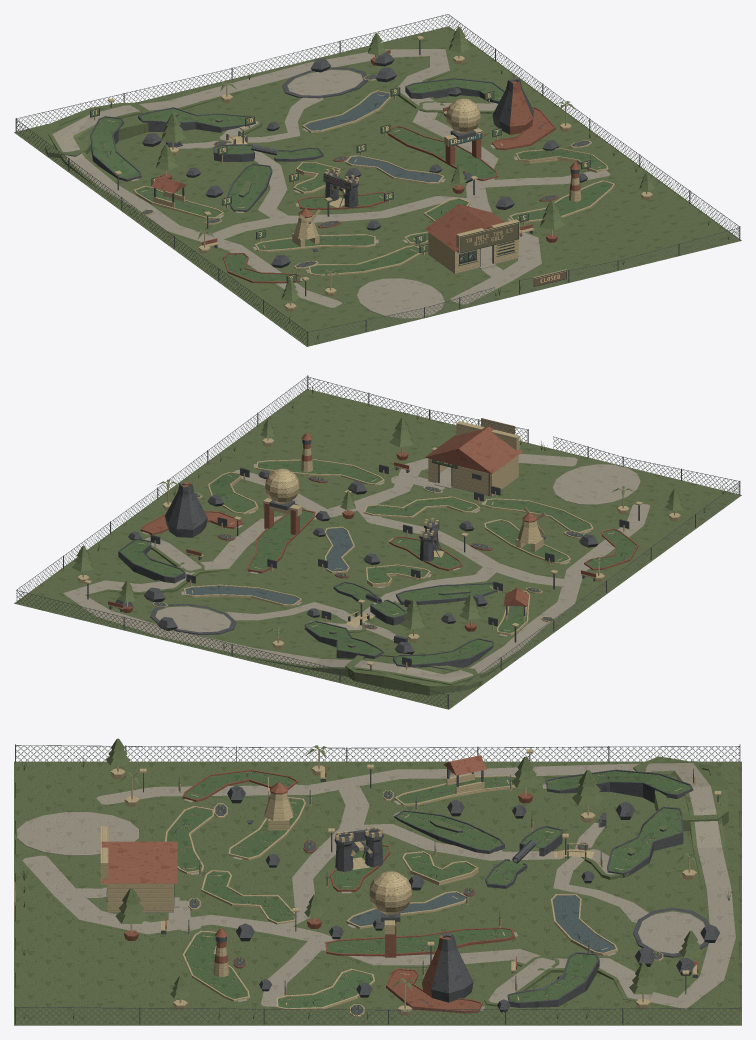
File: thimble-trails-2006-mid.glb
The picture shows the model from 3 angles, top to bottom: view 1: azimuth 30°, elevation 25°; view 2: azimuth 150°, elevation 25°; view 3: azimuth 270°, elevation 25°; orthographic projection. The views are drawn at different scales.
Parts seen in each view (by area): view 1: lot, putting_lanes, course_obstacles, ticket_hut, statue_pad, sign_name; view 2: lot, putting_lanes, ticket_hut, course_obstacles, statue_pad; view 3: lot, putting_lanes, course_obstacles, ticket_hut, statue_pad, Covered bridge roof, Gate turret.001, Gate turret.
Part boxes in pixels (<box>): lot: <box>14,14,741,346</box>; putting_lanes: <box>90,78,614,283</box>; course_obstacles: <box>292,78,581,247</box>; ticket_hut: <box>425,204,522,273</box>; statue_pad: <box>357,278,444,318</box>; sign_name: <box>460,222,518,253</box>; lot: <box>14,375,741,709</box>; putting_lanes: <box>118,459,638,669</box>; ticket_hut: <box>425,421,522,496</box>; course_obstacles: <box>165,433,543,551</box>; statue_pad: <box>552,464,640,504</box>; lot: <box>14,744,741,1025</box>; putting_lanes: <box>165,768,695,1013</box>; course_obstacles: <box>213,782,473,1002</box>; ticket_hut: <box>100,826,179,912</box>; statue_pad: <box>17,812,138,855</box>; Covered bridge roof: <box>443,755,486,775</box>; Gate turret.001: <box>334,835,353,871</box>; Gate turret: <box>364,831,383,867</box>.
Size of what is drawn, in the model's own units: 60 by 7.98 by 70.
11 materials, 11 textured.
